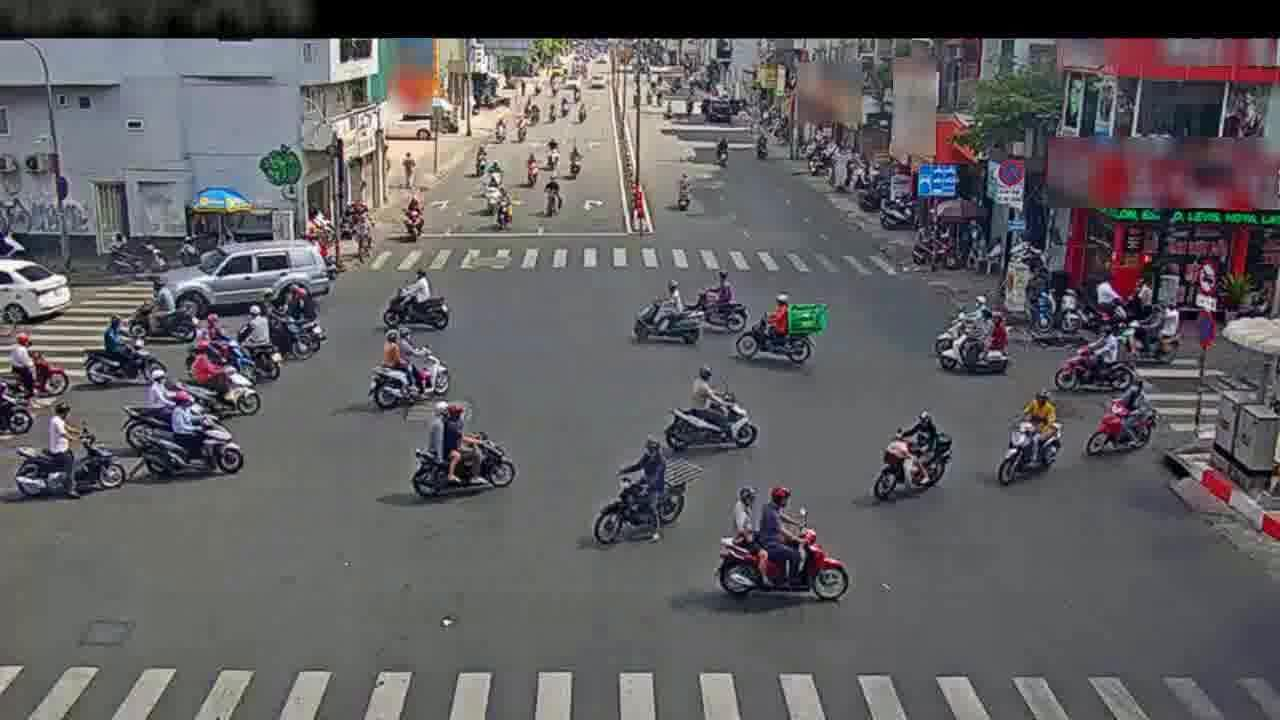container: (166, 241, 319, 323), (0, 257, 68, 328)
motorbike: (724, 483, 842, 605), (408, 405, 517, 499), (12, 409, 115, 501), (596, 442, 687, 545), (138, 399, 243, 480), (867, 407, 956, 502), (665, 370, 759, 457), (123, 367, 205, 444), (1052, 328, 1140, 399), (365, 334, 446, 411), (740, 295, 822, 370), (998, 398, 1065, 485), (175, 347, 262, 413), (82, 317, 164, 386), (1089, 384, 1157, 461), (935, 310, 1012, 378), (379, 269, 455, 337), (629, 282, 702, 350), (0, 325, 54, 406), (134, 285, 212, 339), (268, 287, 321, 362), (1122, 303, 1182, 368), (697, 272, 747, 335), (241, 307, 284, 378), (0, 361, 33, 447), (399, 189, 427, 247), (491, 184, 516, 241), (351, 208, 376, 261), (542, 176, 562, 228), (673, 171, 694, 218), (753, 127, 771, 164), (566, 144, 582, 184)
